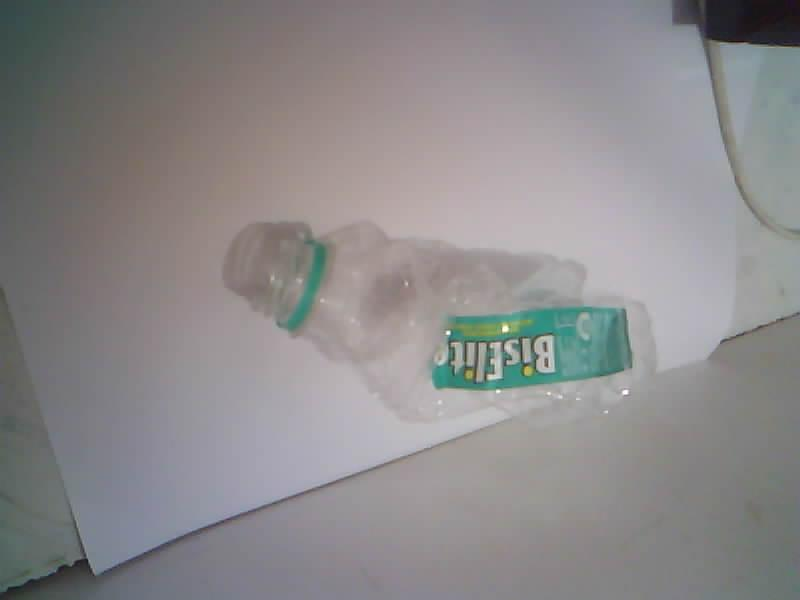non-biodegradable: (223, 223, 654, 424)
